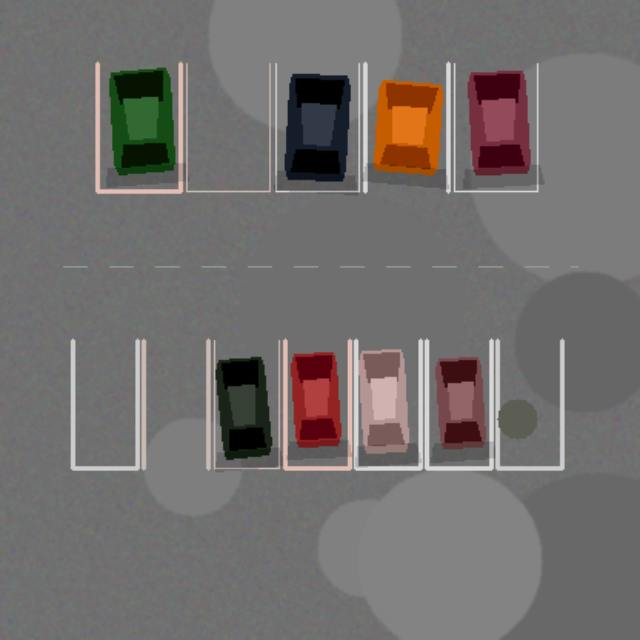space-empty: (186, 63, 269, 191), (72, 340, 137, 468), (143, 340, 208, 468), (497, 340, 562, 468)
space-occupied: (97, 63, 180, 191), (275, 63, 358, 191), (365, 63, 448, 191), (454, 63, 537, 191), (355, 340, 420, 468), (426, 340, 491, 468), (214, 340, 278, 468), (285, 340, 349, 468)
